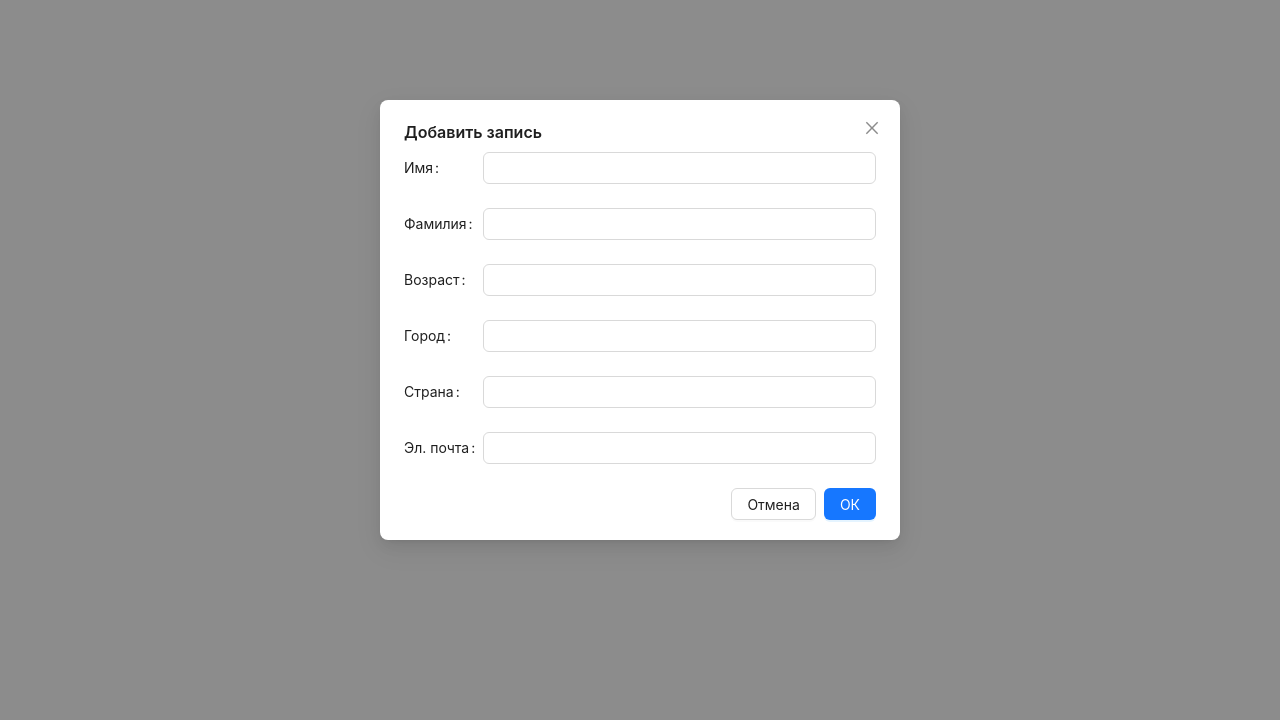
Test case: AddNewRecordModal › shows validation message
Click the button "ОК" at [850, 504], box 824,488 -> 876,520
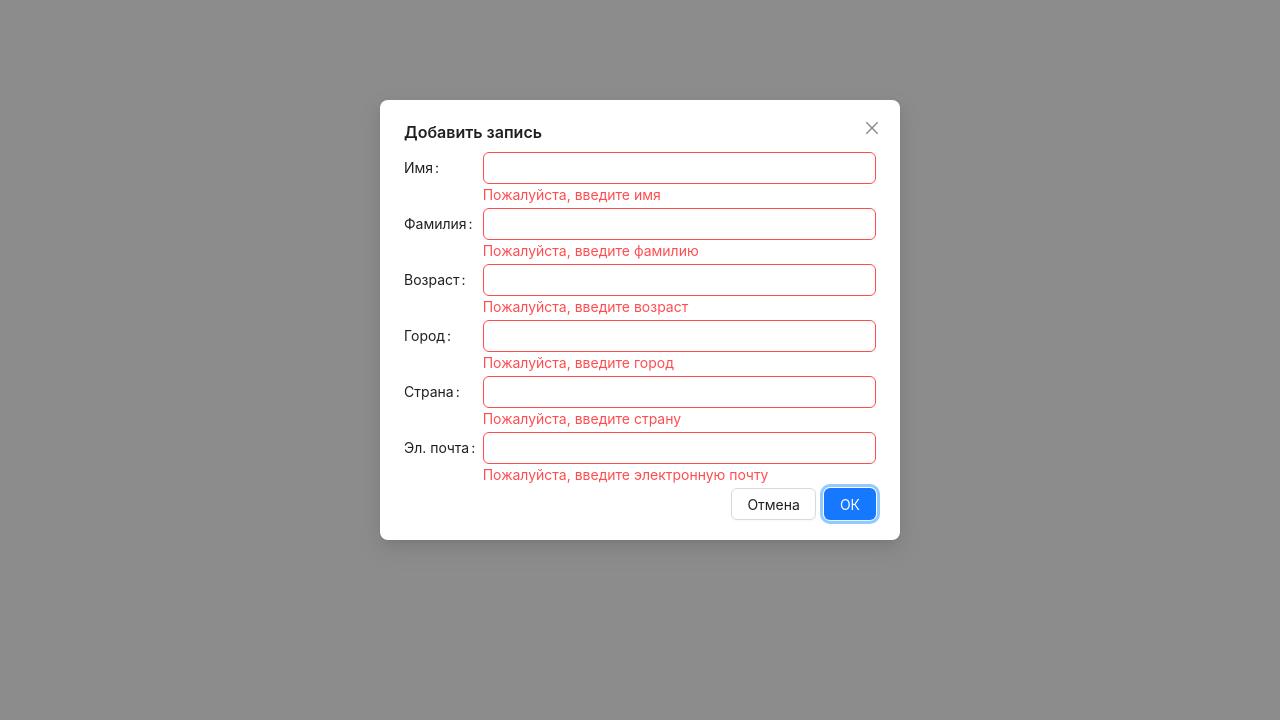
Result: the text "Пожалуйста, введите имя" is shown at 483,186 -> 661,203
Result: the text "Пожалуйста, введите фамилию" is shown at 483,242 -> 699,259
Result: the text "Пожалуйста, введите возраст" is shown at 483,298 -> 688,315
